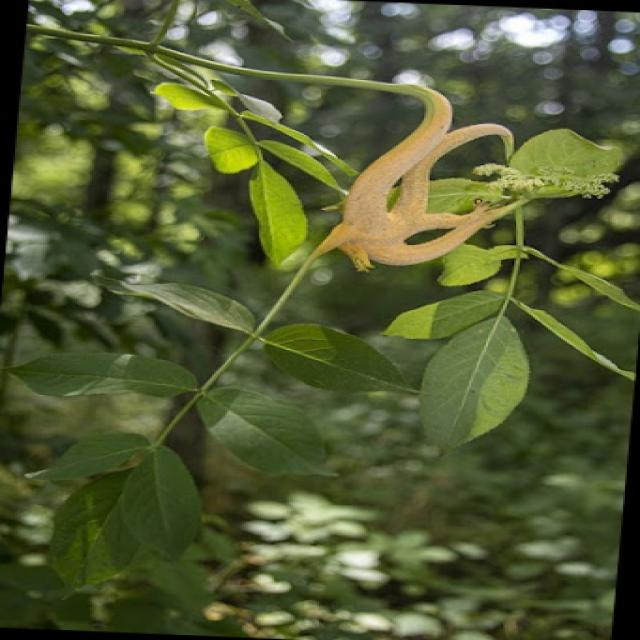Elderberry_rust: (306, 82, 524, 274)
